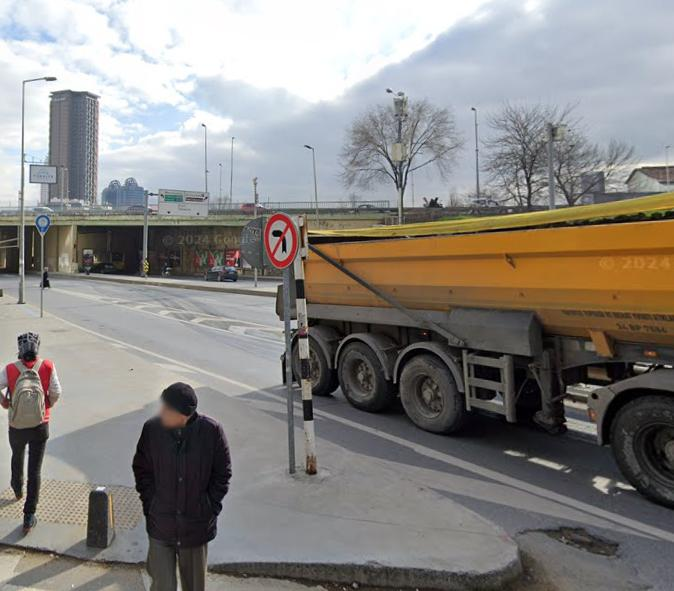leftturnsareforbidden: (266, 214, 299, 268)
